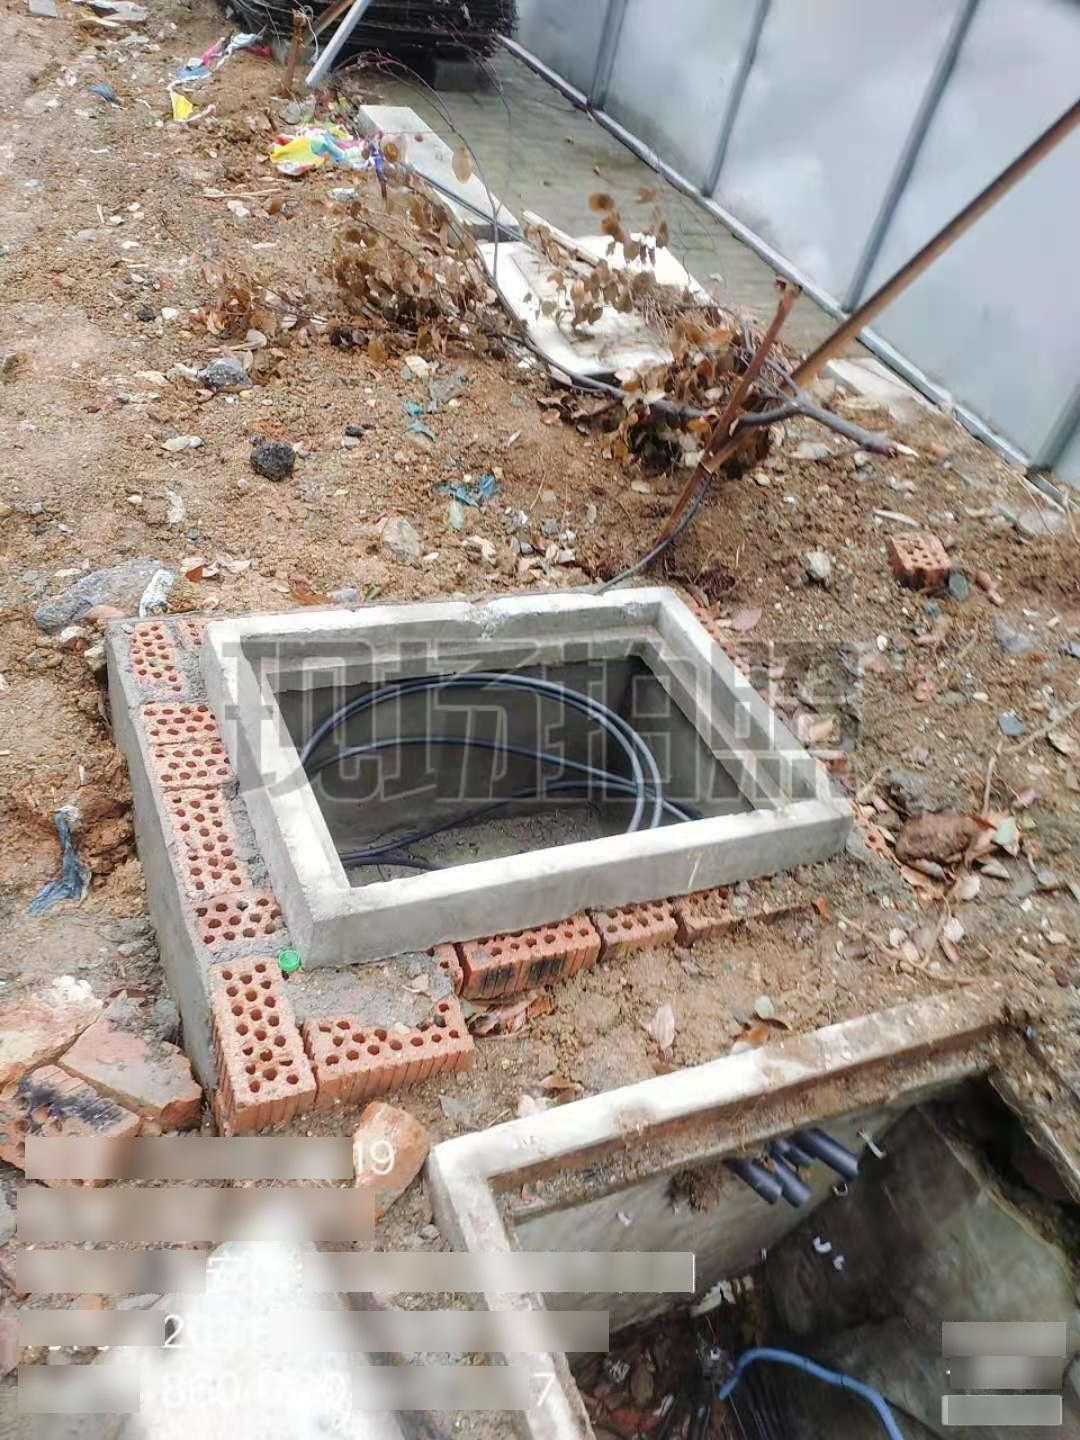wellcover: (153, 558, 864, 975), (440, 1003, 1080, 1440)
